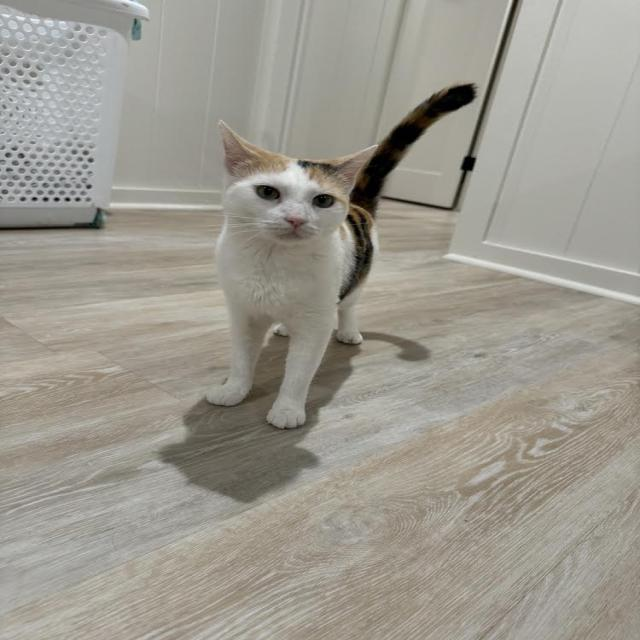domestic_short_hair_cat: (198, 115, 391, 268)
